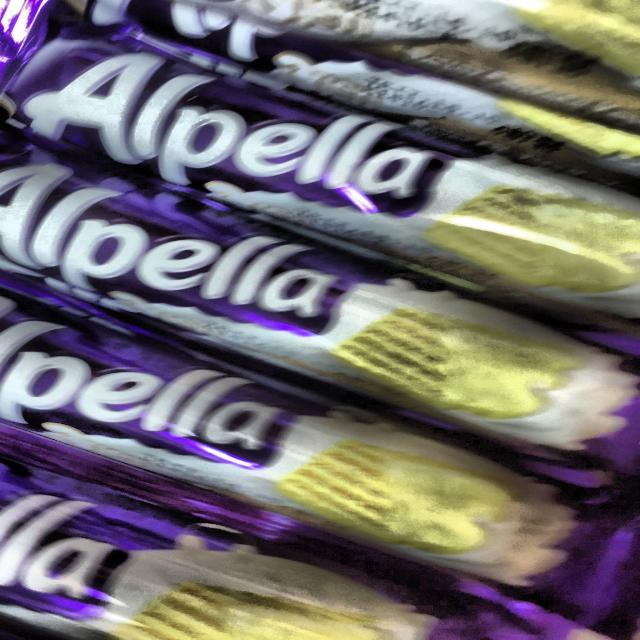Plastic: (10, 177, 637, 461), (17, 16, 640, 294), (7, 334, 595, 586)
